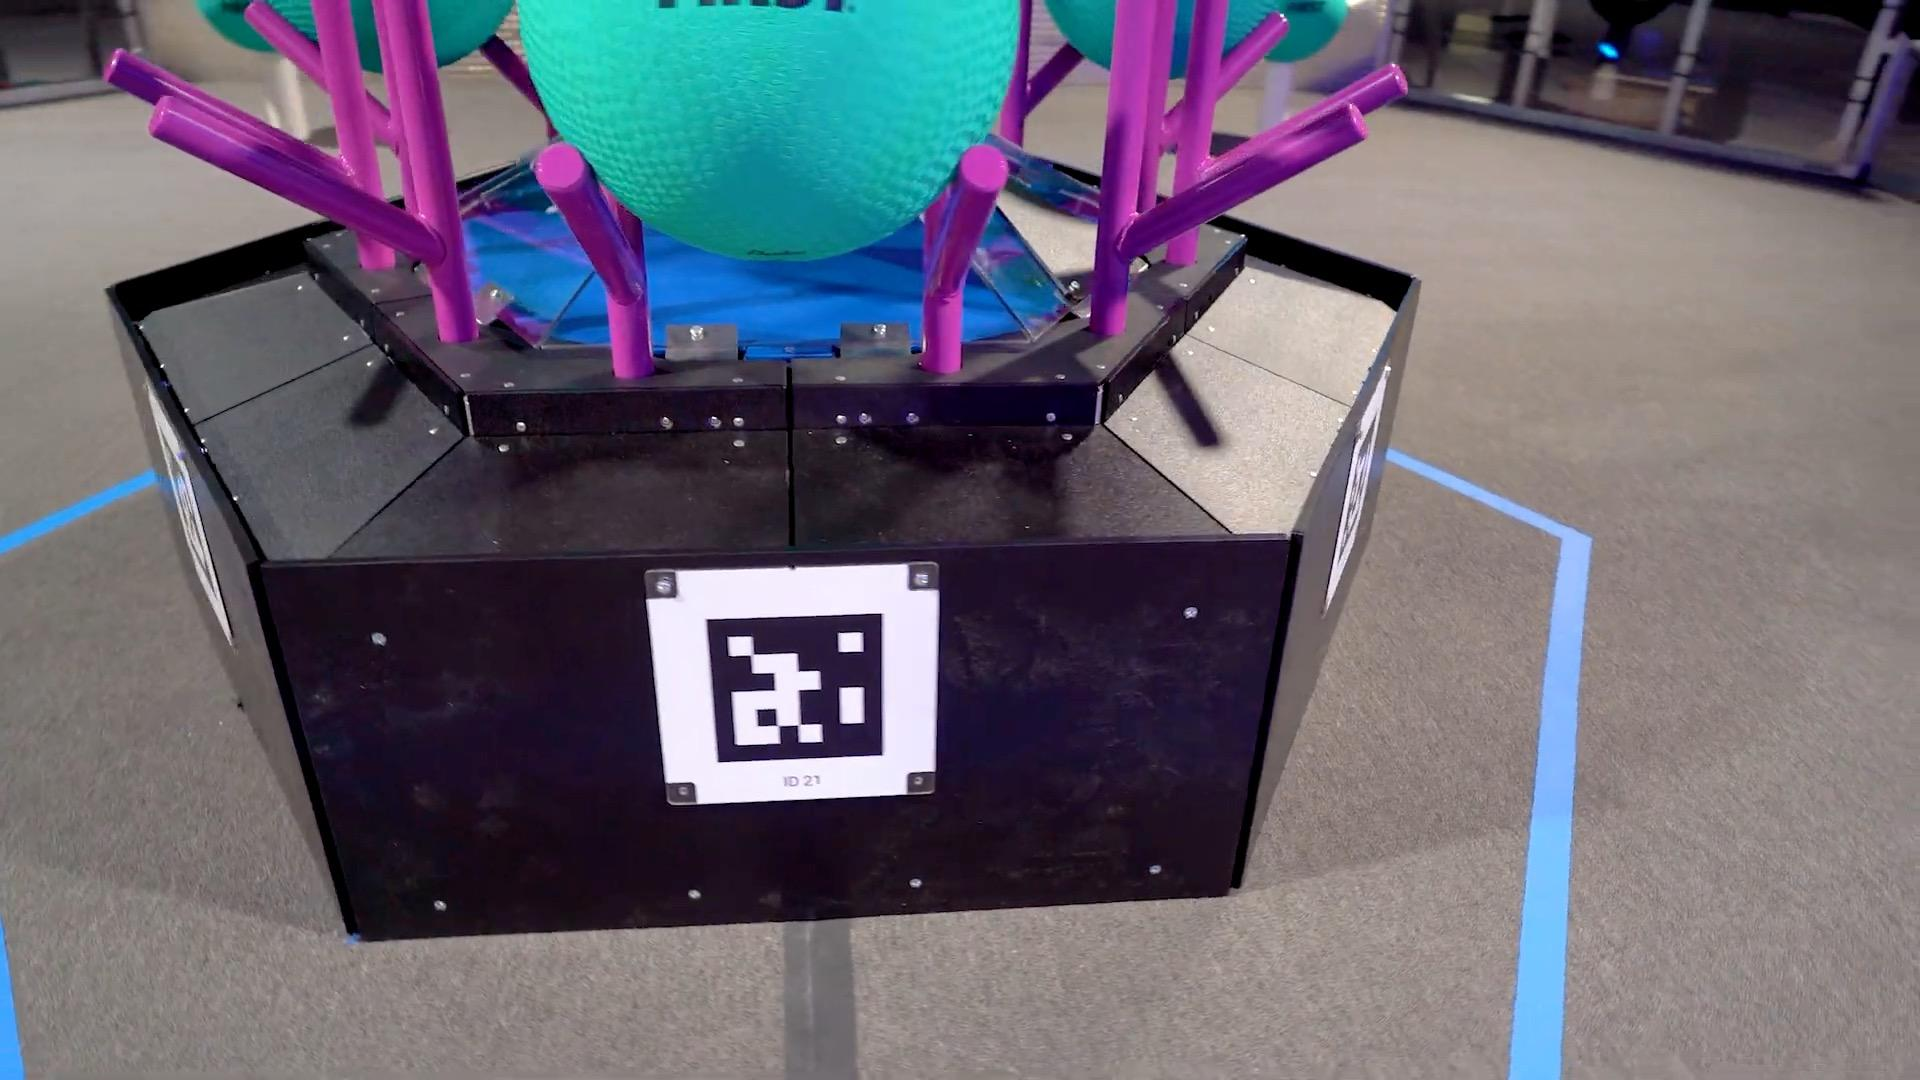ALGAE: (514, 0, 1023, 264), (195, 0, 513, 73), (1043, 0, 1275, 79), (1241, 0, 1348, 63)
CORAL: (1259, 61, 1294, 136)
